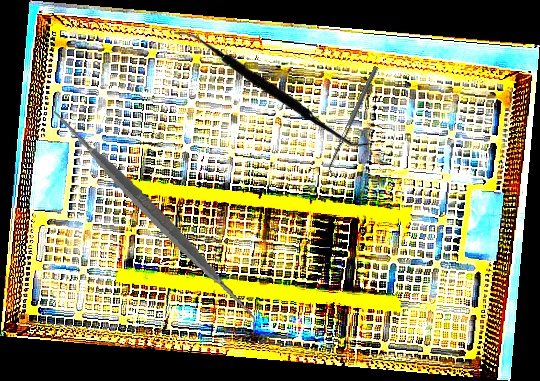Spatula Surgical: (33, 98, 278, 335), (172, 30, 374, 147), (324, 65, 383, 177)
